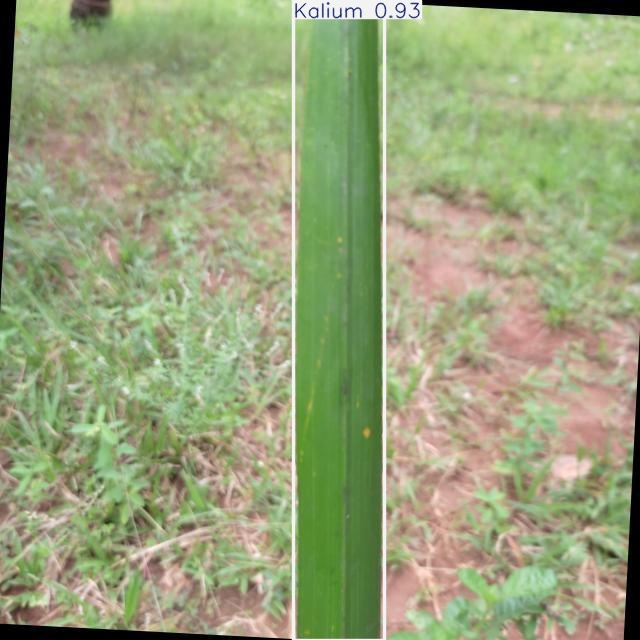Kalium: (294, 0, 384, 640)
